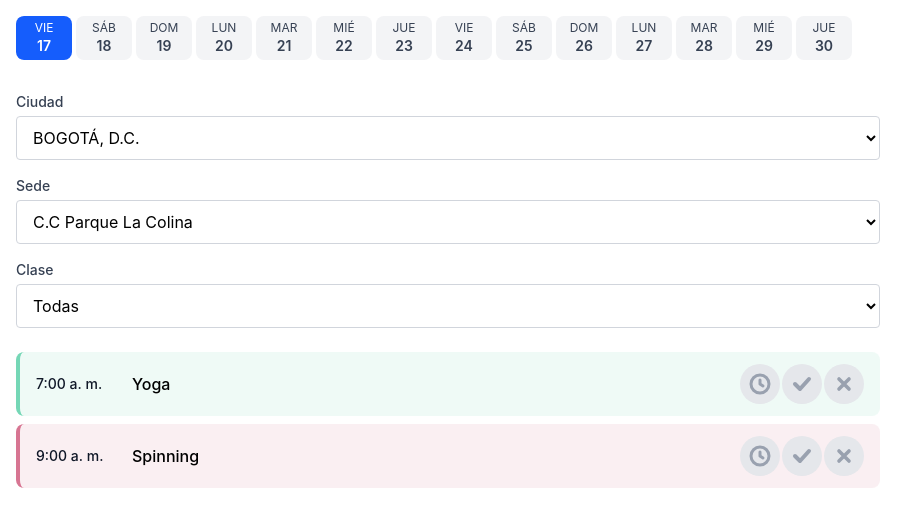
SchedulePage › class-type filter › filters sessions when a class type is selected
Expected: the text "Yoga" is shown, [132, 374, 170, 394]
Expected: the text "Spinning" is shown, [132, 446, 199, 466]
Select "Yoga" in the dropdown with id "class-type-filter": coordinates (448, 306) [16, 284, 880, 328]
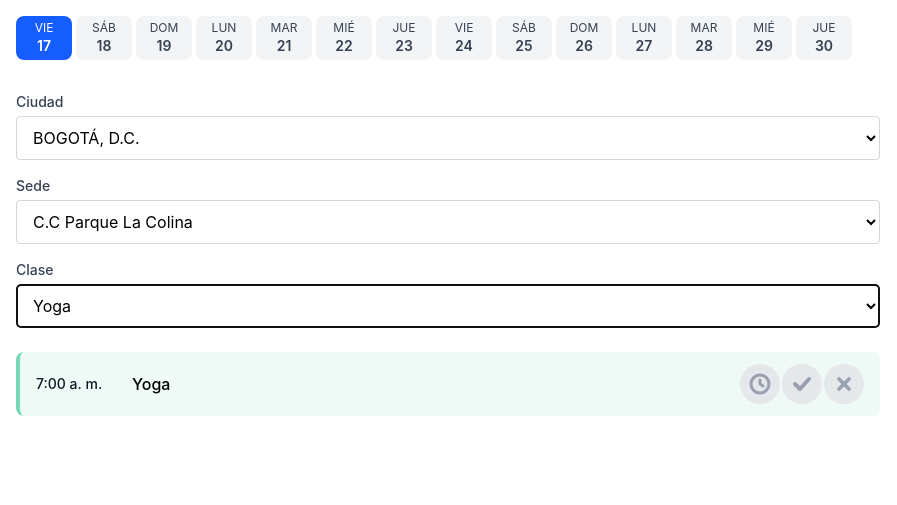
Expected: the text "Yoga" is shown, [132, 374, 170, 394]
Expected: the button "Spinning" is gone
Select "Todas" in the dropdown with id "class-type-filter": coordinates (448, 306) [16, 284, 880, 328]
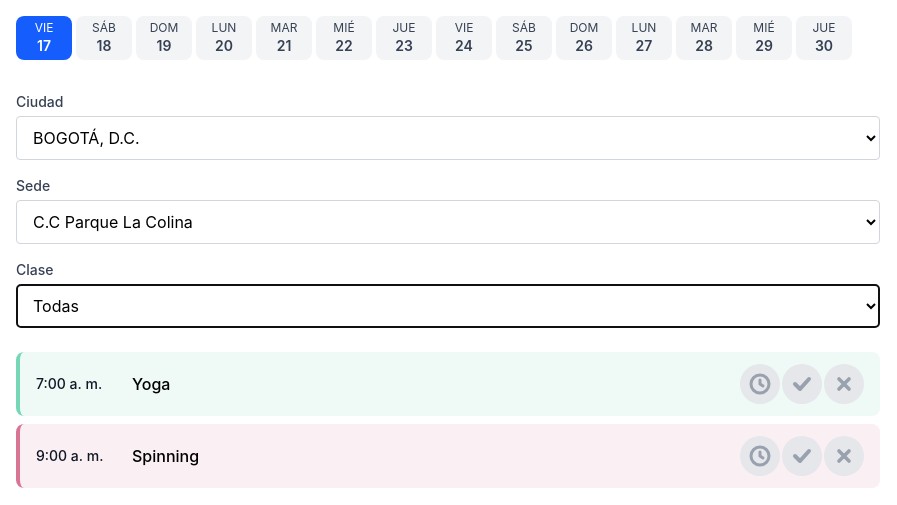
Expected: the text "Yoga" is shown, [132, 374, 170, 394]
Expected: the text "Spinning" is shown, [132, 446, 199, 466]
